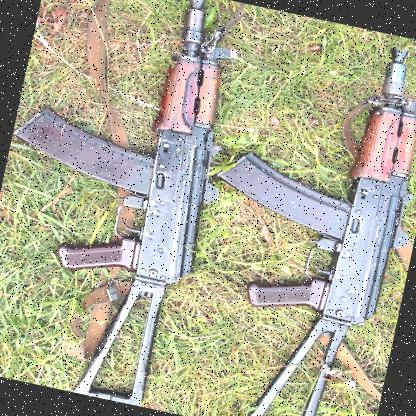rifle: (0, 0, 251, 410), (169, 16, 416, 416)
